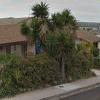Palm tree: (22, 3, 81, 49)
